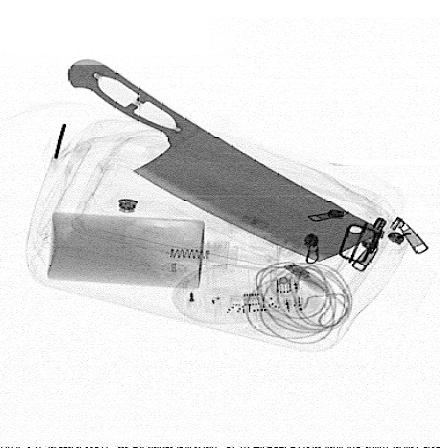Knife: (65, 58, 386, 265)
